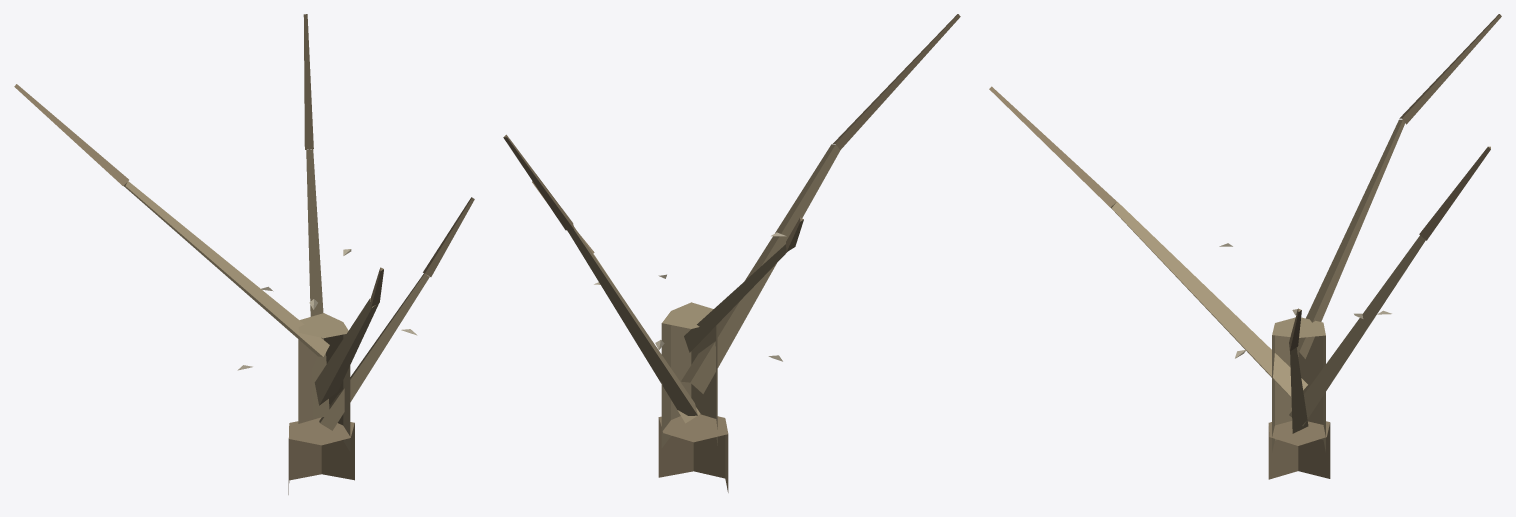
Rendered from shu.longnao@withered__spring.glb.
3 renders of one model, left to right at view 1: azimuth 30°, elevation 25°; view 2: azimuth 150°, elevation 25°; view 3: azimuth 270°, elevation 25°, orthographic. The views are drawn at different scales.
Parts seen in each view (by area): view 1: shu.longnao@withered__spring; view 2: shu.longnao@withered__spring; view 3: shu.longnao@withered__spring.
Boxes of the visible parts, bbox=[...] form: shu.longnao@withered__spring: bbox=[14, 14, 474, 494]; shu.longnao@withered__spring: bbox=[503, 14, 960, 492]; shu.longnao@withered__spring: bbox=[989, 14, 1501, 479].
Bounding box in the file's own units: 11.48 × 11.73 × 14.35.
